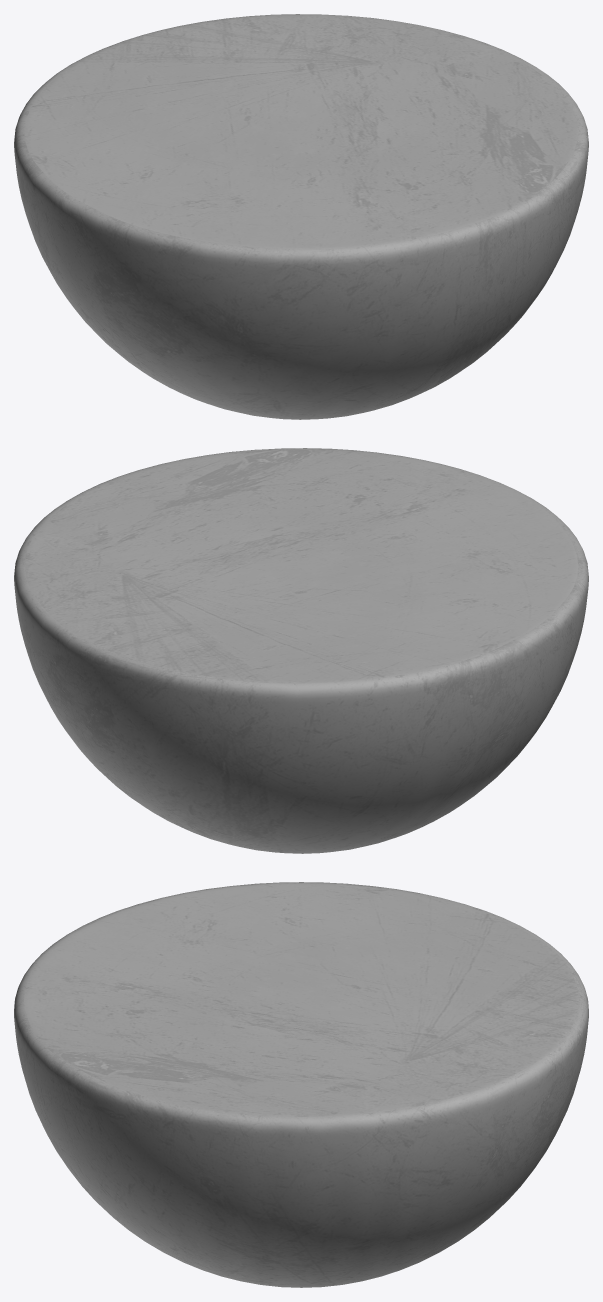
The model's file is HemiSphere.glb.
3 views of the same model, one above another, from view 1: azimuth 30°, elevation 25°; view 2: azimuth 150°, elevation 25°; view 3: azimuth 270°, elevation 25° (orthographic).
Visible parts, largest first — view 1: HemiSphere; view 2: HemiSphere; view 3: HemiSphere.
Part boxes in pixels (left/top/right/bottom): HemiSphere: left=14, top=14, right=588, bottom=419; HemiSphere: left=14, top=448, right=588, bottom=853; HemiSphere: left=14, top=882, right=588, bottom=1287.
Size of the model in its own units: 1.27 by 0.6355 by 1.27.
1 material, 1 textured.
